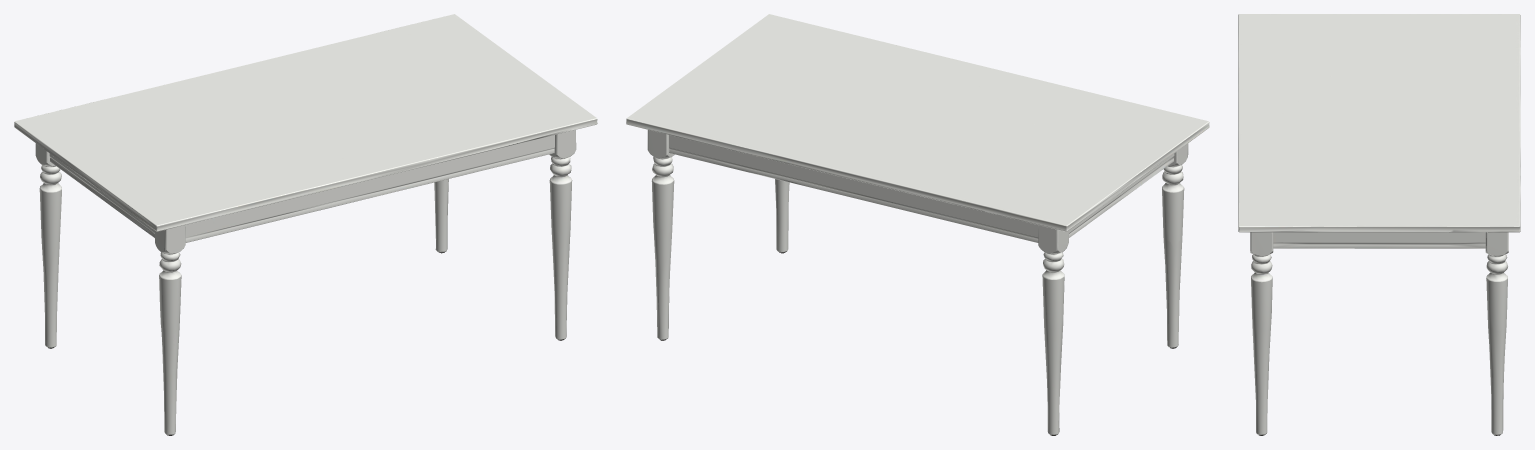
The model's file is rosentorp_sto_rozkadany_60589902.glb.
3 views of the same model, side by side, from view 1: azimuth 30°, elevation 25°; view 2: azimuth 150°, elevation 25°; view 3: azimuth 270°, elevation 25° (orthographic).
Parts seen in each view (by area): view 1: rosentorp_sto_rozkadany_60589902; view 2: rosentorp_sto_rozkadany_60589902; view 3: rosentorp_sto_rozkadany_60589902.
Boxes of the visible parts, bbox=[...] form: rosentorp_sto_rozkadany_60589902: bbox=[14, 14, 597, 435]; rosentorp_sto_rozkadany_60589902: bbox=[626, 14, 1209, 435]; rosentorp_sto_rozkadany_60589902: bbox=[1238, 14, 1520, 435].
Size of the model in its own units: 1.55 by 0.7501 by 0.8701.
Materials: 1 (1 with a texture image).
